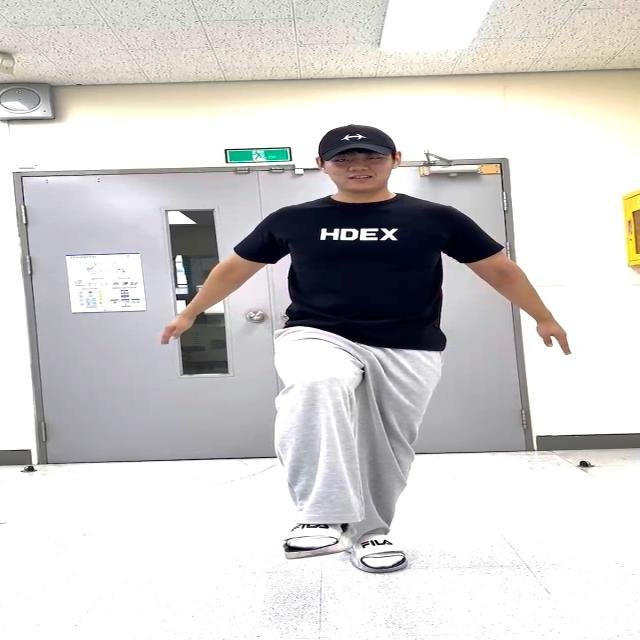leg: (269, 336, 360, 553)
